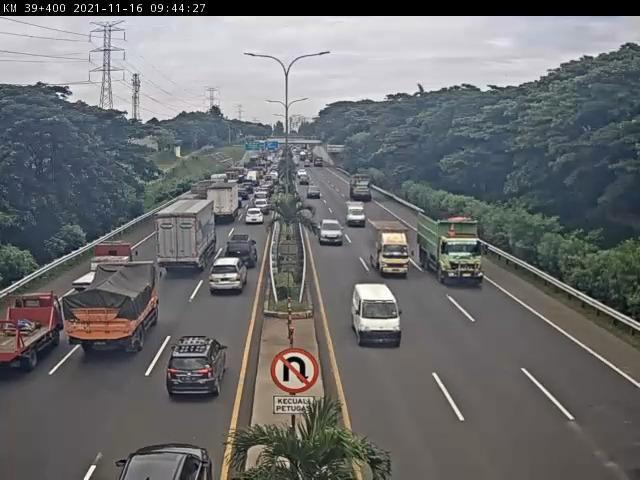car: (166, 336, 229, 398), (352, 285, 403, 350), (370, 221, 412, 277), (208, 259, 248, 295), (227, 236, 259, 268), (345, 201, 374, 225), (320, 221, 343, 246)
truck: (65, 261, 163, 354), (416, 210, 487, 286), (2, 290, 65, 370), (156, 201, 219, 277), (210, 182, 242, 224)
